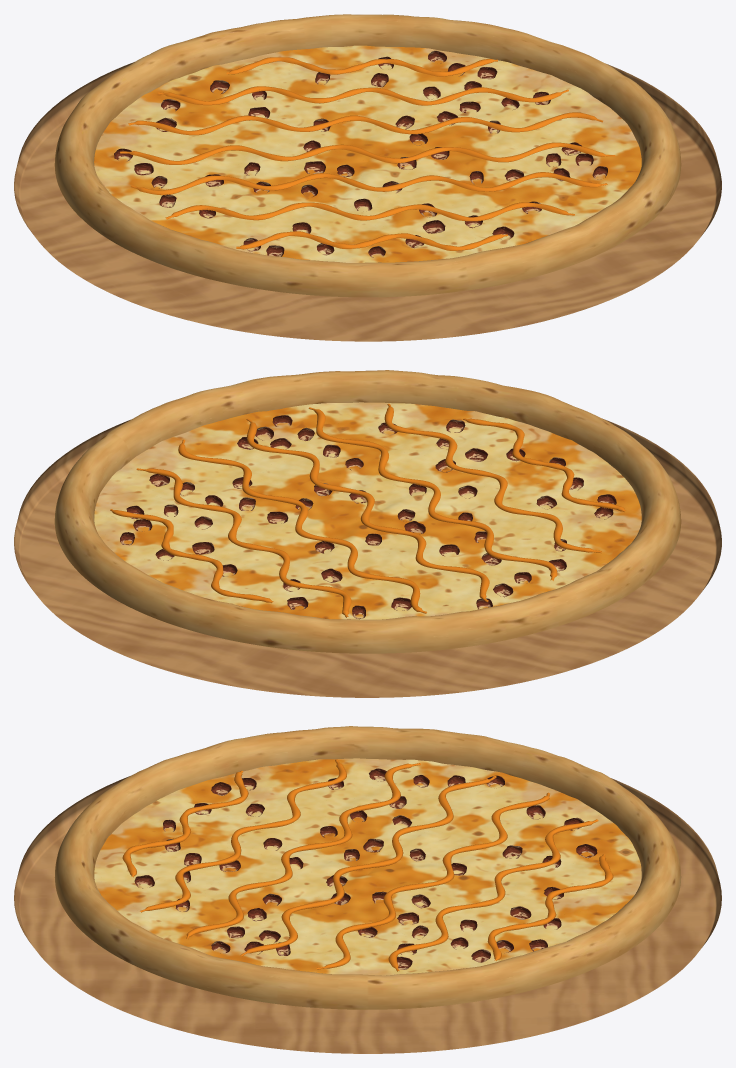
The model's file is pizza-bacon-cheddar.glb.
3 views of the same model, one above another, from view 1: azimuth 30°, elevation 25°; view 2: azimuth 150°, elevation 25°; view 3: azimuth 270°, elevation 25° (orthographic).
Parts seen in each view (by area): view 1: pizza-bacon-cheddar; view 2: pizza-bacon-cheddar; view 3: pizza-bacon-cheddar.
Part boxes in pixels (x1,y1,x2,y2): pizza-bacon-cheddar: [14, 14, 721, 341]; pizza-bacon-cheddar: [14, 370, 721, 697]; pizza-bacon-cheddar: [14, 726, 721, 1053].
Bounding box in the file's own units: 0.432 × 0.0398 × 0.432.
5 materials, 4 textured.
